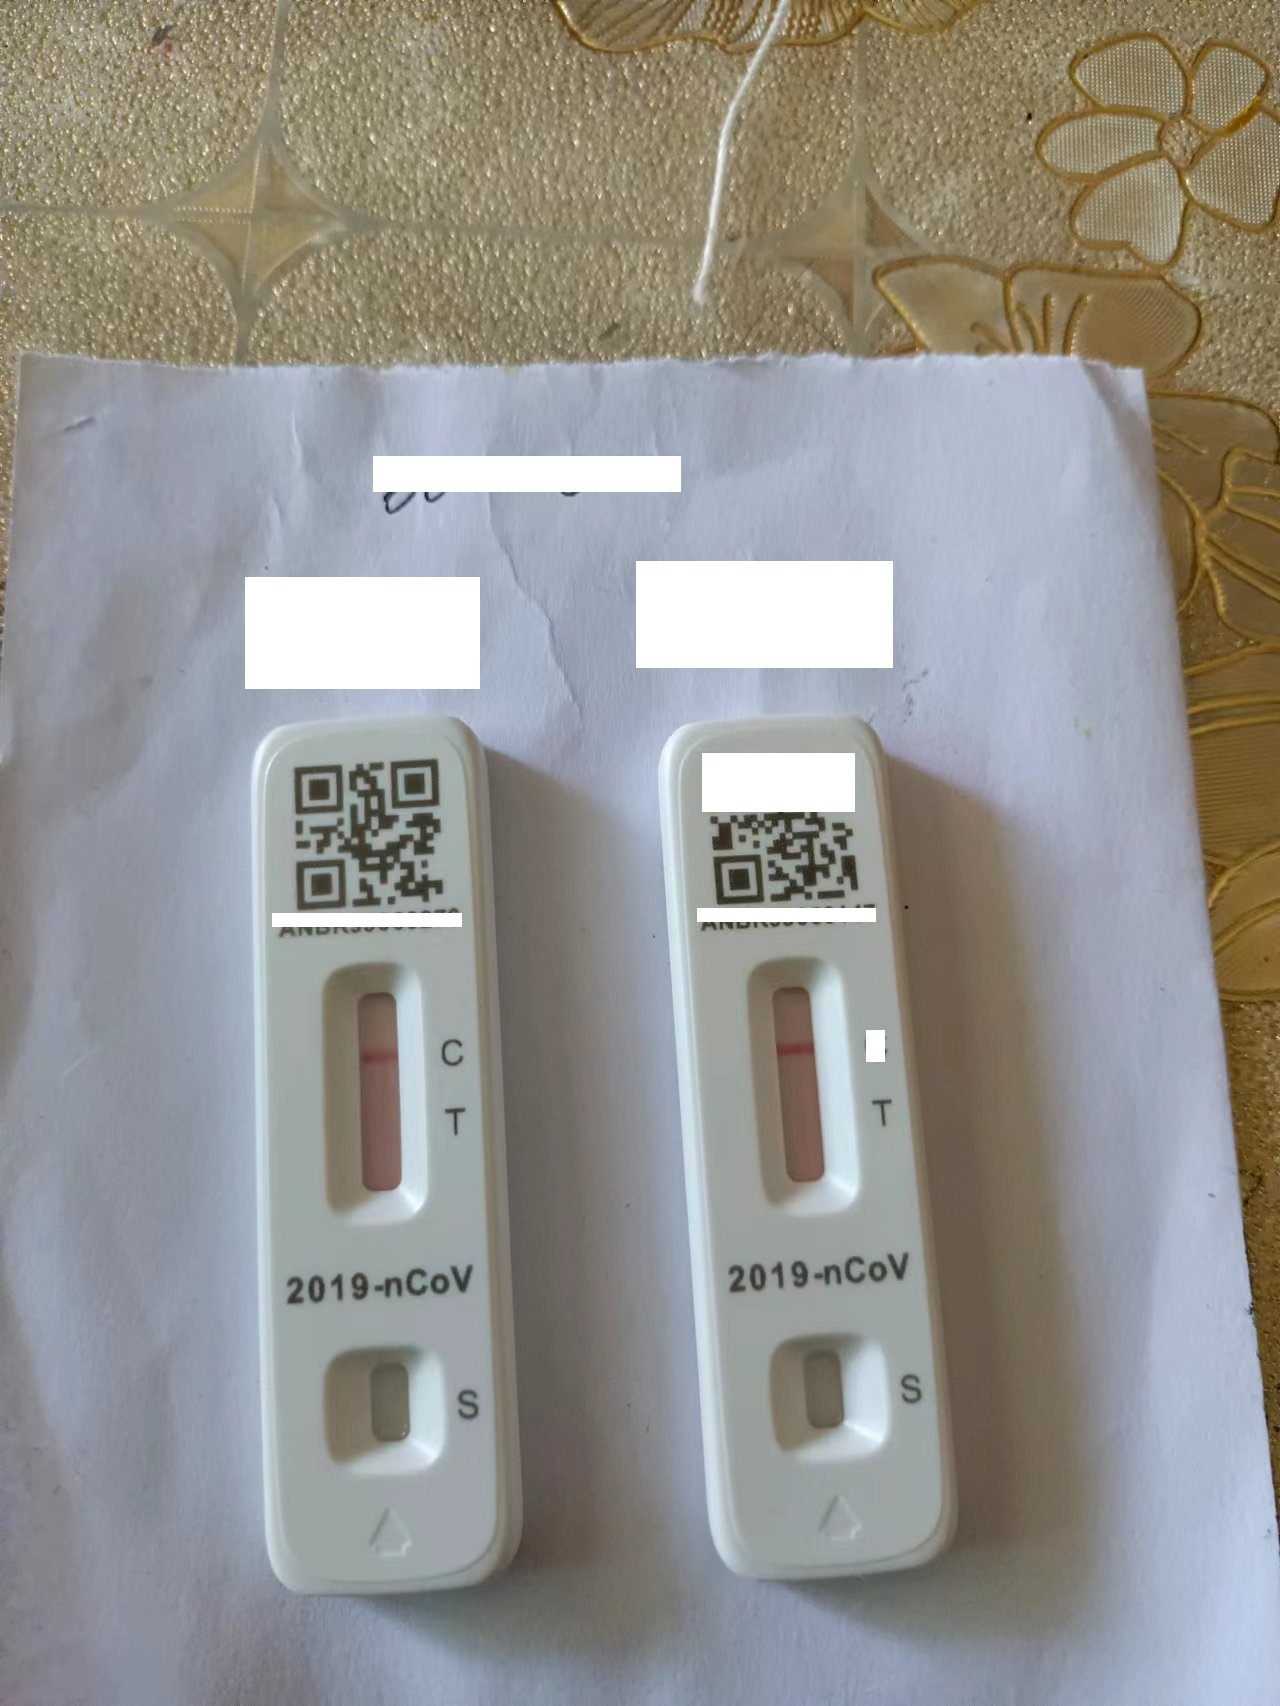negative: (745, 956, 852, 1217), (321, 959, 424, 1230)
